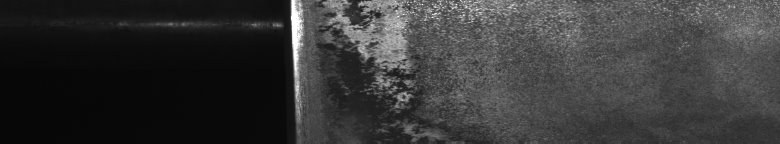kb: (312, 4, 578, 136)
